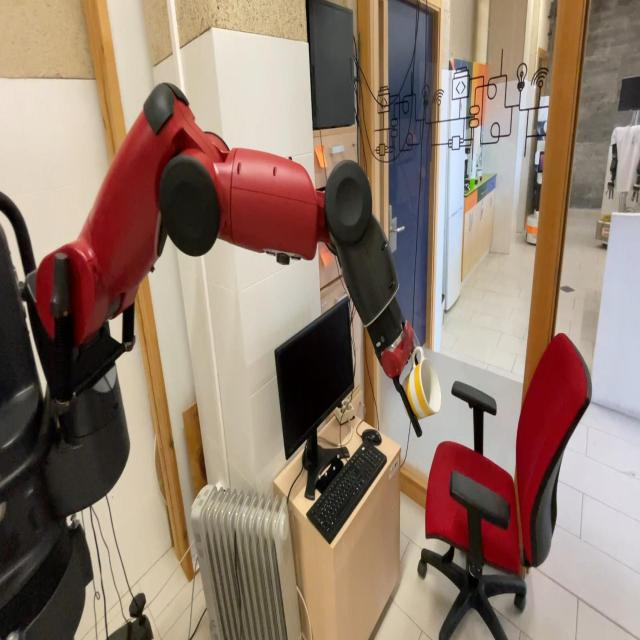cup: (400, 345, 441, 421)
